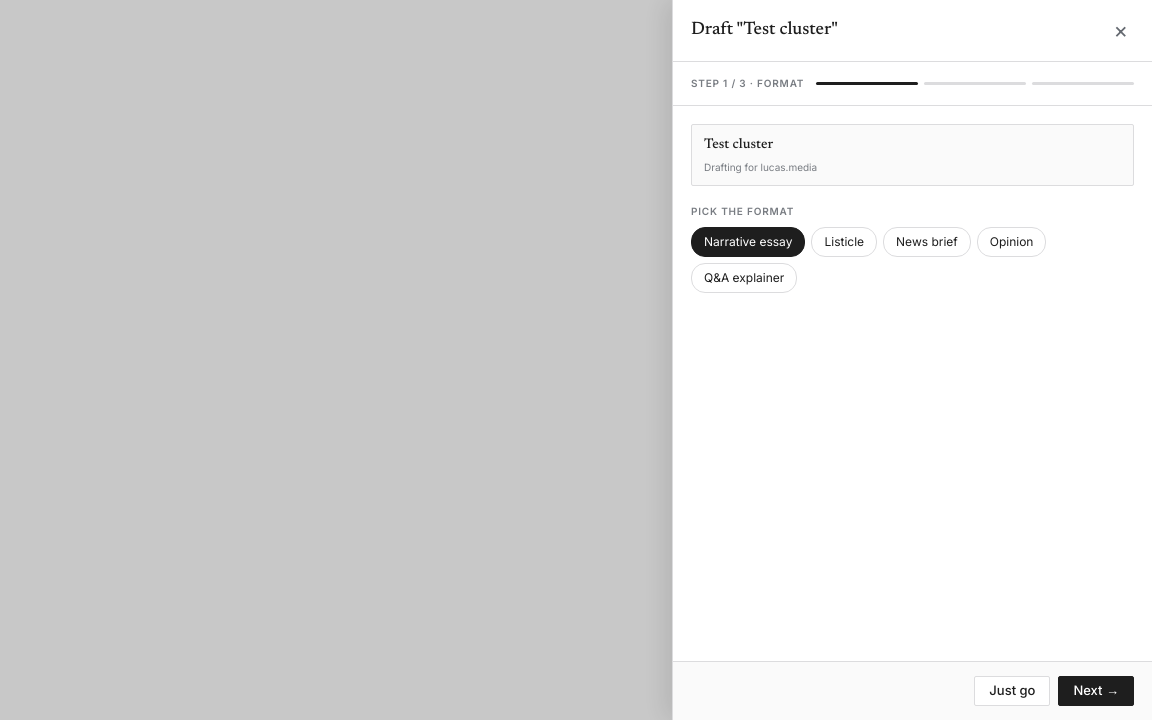
it: DraftWizardSheet › shows thinking copy while angles are loading
The width and height of the screenshot is (1152, 720).
Click the button "Next →": coordinates (1096, 691) [1058,676,1134,706]
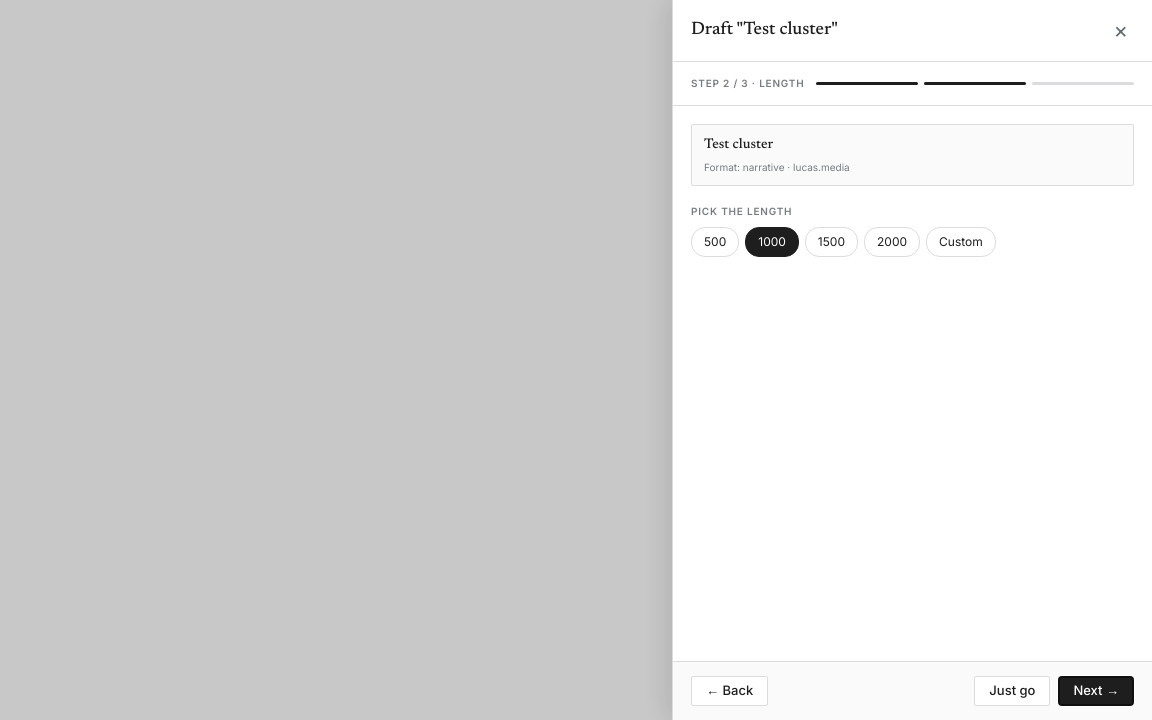
Click the button "Next →": coordinates (1096, 691) [1058,676,1134,706]
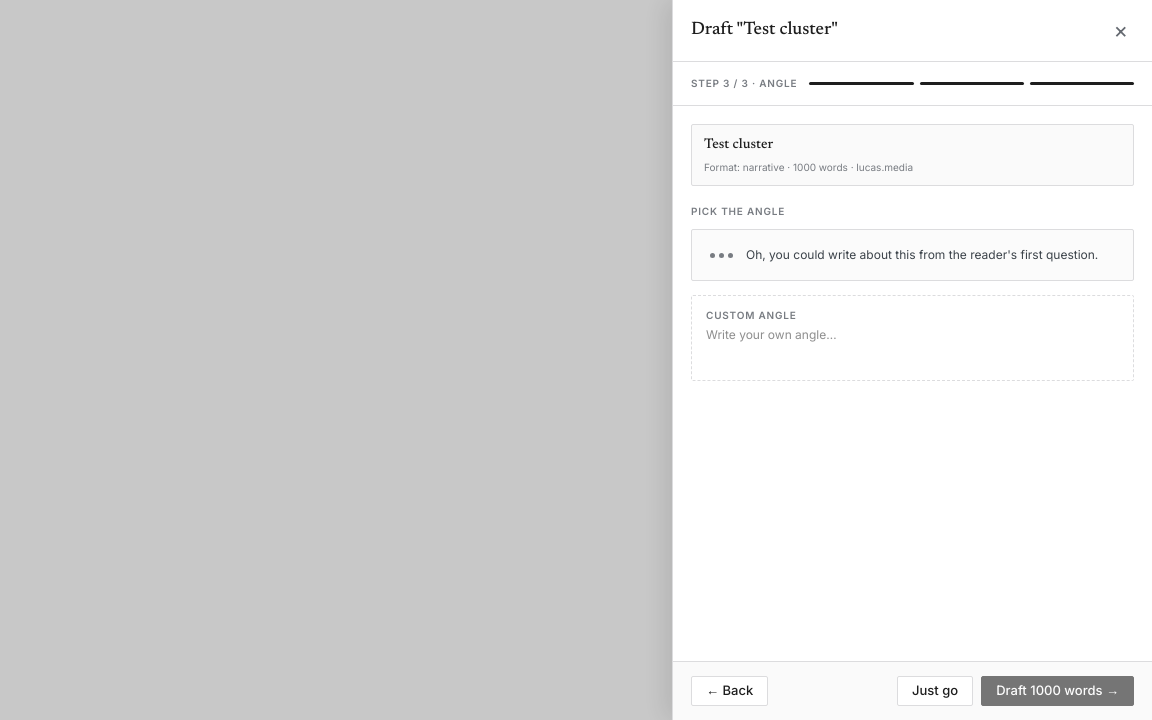
Check: the message reads "Oh, you could write about this from the reader's first question.", box [746,247,1098,262]
